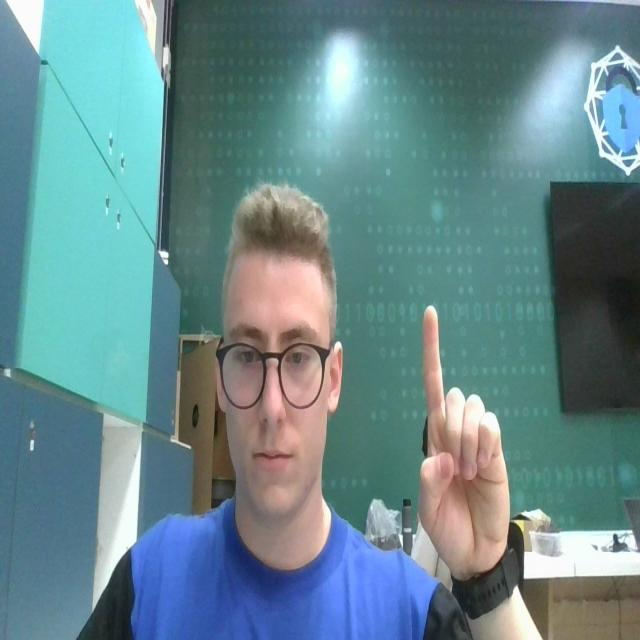D2: (418, 304, 512, 565)
